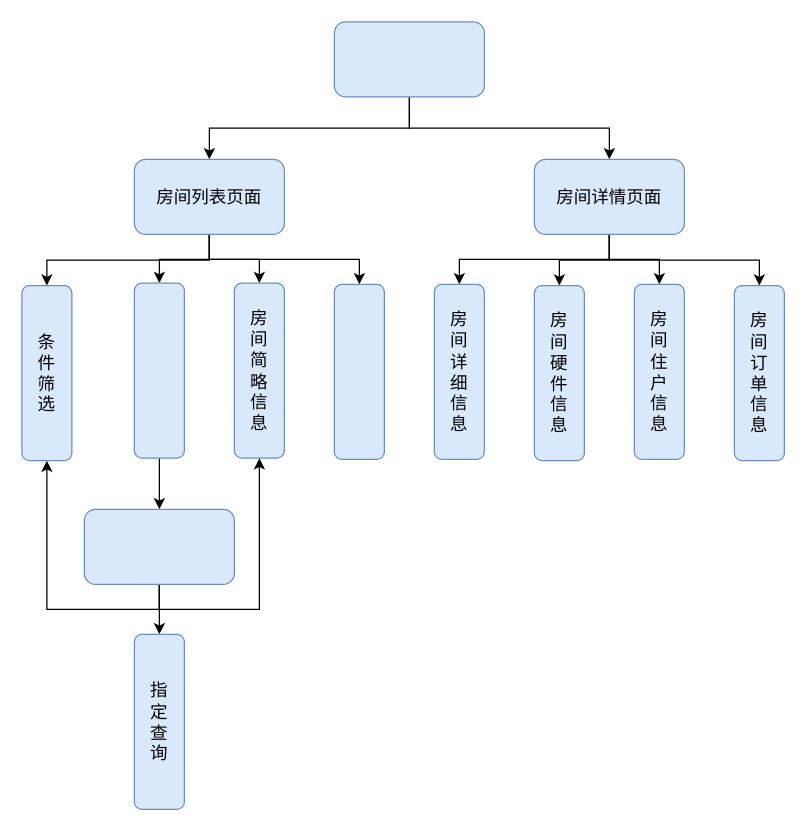
Some shapes in this 806 by 831 pixel diagram are drawn without their labels. Here are the shapes that lost their labels. From the top down, the centre of each, then its label:
At (x=408, y=59): "微信小程序管理员端".
At (x=158, y=370): "查 询".
At (x=358, y=371): "开 门".
At (x=158, y=546): "搜索页面".
